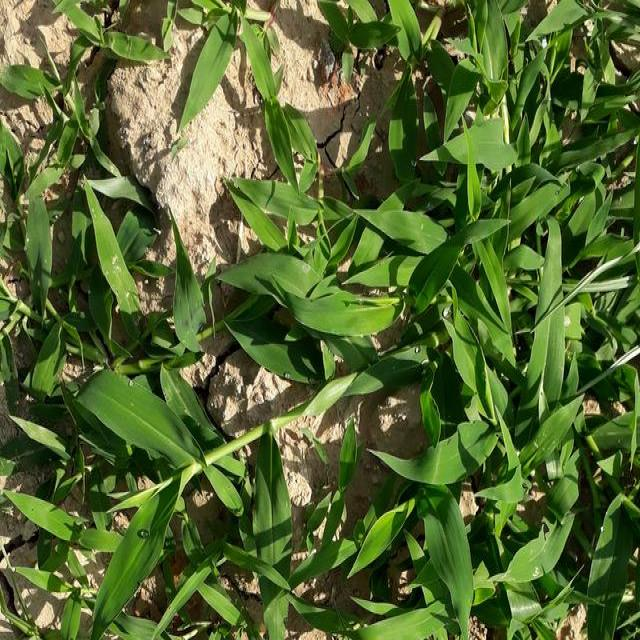weed: (439, 11, 638, 622), (44, 163, 212, 640), (233, 205, 442, 358)
